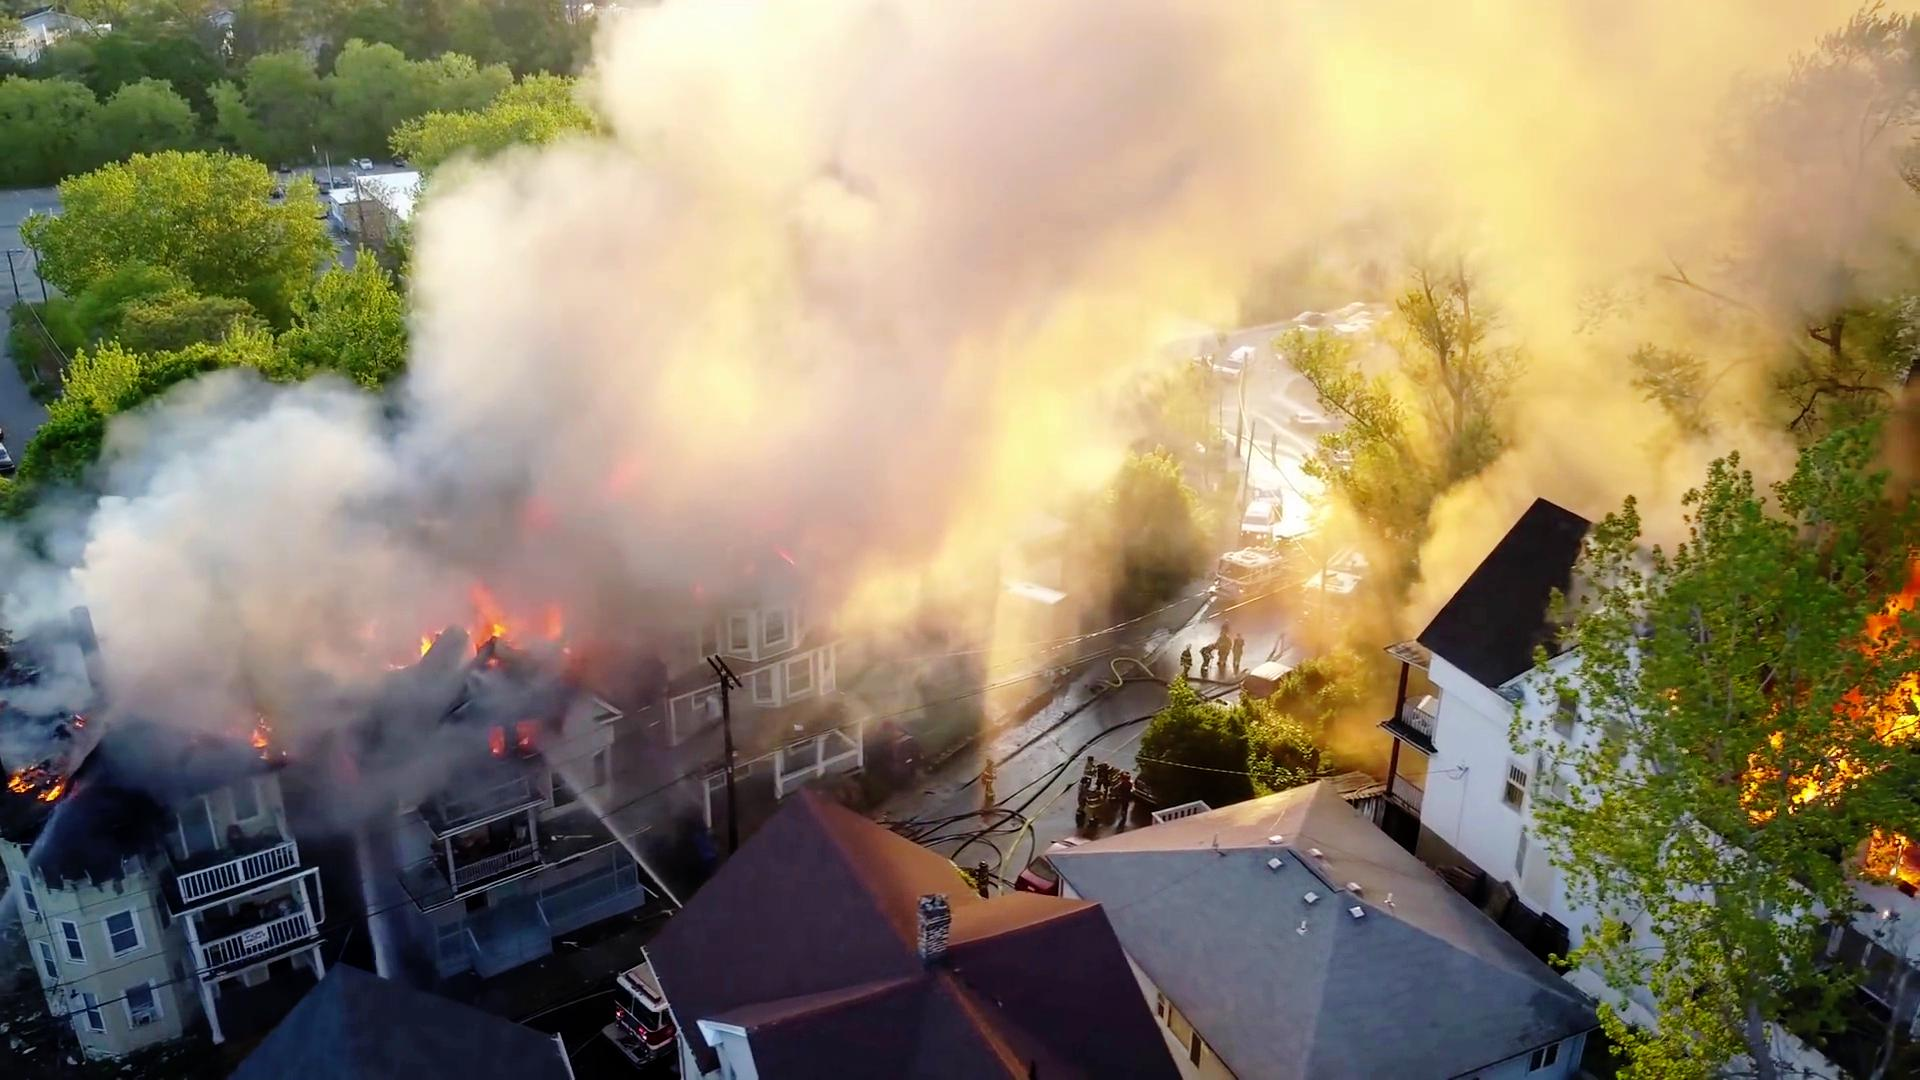smoke: (806, 7, 1761, 235), (693, 91, 987, 513), (283, 448, 501, 652)
